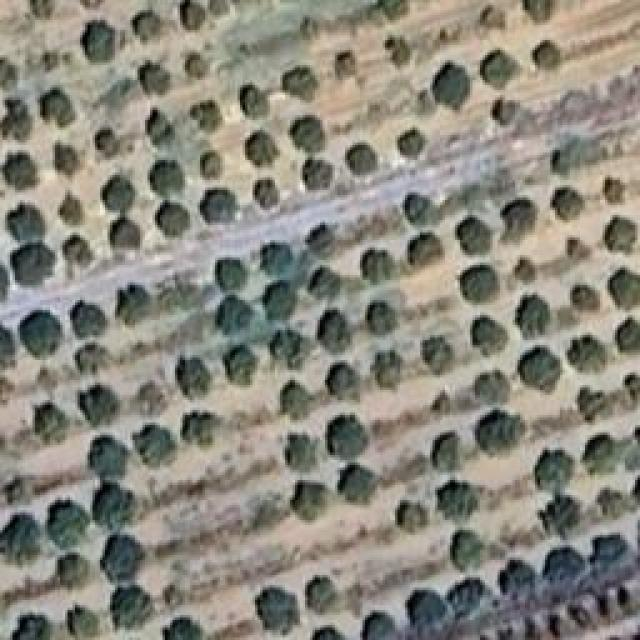Tree: (408, 590, 453, 640), (100, 535, 145, 583), (478, 410, 524, 456), (0, 513, 40, 565), (10, 242, 56, 287), (20, 310, 64, 357), (48, 500, 91, 548), (255, 588, 299, 634), (518, 348, 562, 394), (93, 482, 135, 530), (30, 398, 71, 447), (133, 425, 177, 468), (448, 578, 493, 620), (328, 415, 369, 461), (88, 435, 129, 481), (433, 63, 472, 110), (438, 480, 481, 521), (78, 385, 119, 428), (535, 450, 574, 495), (553, 137, 599, 175), (113, 585, 152, 628), (543, 547, 587, 585), (503, 197, 539, 242), (8, 202, 48, 242), (460, 265, 500, 305), (543, 495, 582, 536), (500, 560, 539, 601), (515, 295, 550, 340), (215, 295, 253, 335), (337, 465, 375, 505), (480, 50, 518, 90), (290, 480, 326, 521), (115, 285, 151, 326), (473, 315, 509, 356), (83, 20, 117, 63), (318, 310, 352, 353), (70, 300, 108, 338), (583, 435, 619, 475), (223, 345, 258, 386), (263, 280, 297, 321), (450, 530, 484, 571), (607, 267, 640, 309), (455, 218, 491, 256), (178, 358, 212, 398), (40, 88, 75, 126), (290, 115, 325, 153), (133, 377, 168, 415), (280, 380, 313, 420), (325, 363, 360, 400), (103, 175, 137, 213), (270, 330, 304, 368), (150, 160, 185, 196), (3, 100, 33, 142), (570, 335, 605, 371), (3, 153, 37, 190), (285, 432, 316, 472), (423, 335, 454, 375), (58, 553, 92, 589), (182, 415, 220, 447), (245, 132, 279, 167), (260, 242, 294, 277), (360, 250, 394, 285), (553, 187, 587, 222), (155, 204, 190, 238), (475, 370, 511, 403), (373, 353, 404, 391), (590, 535, 628, 566), (433, 432, 462, 472), (408, 233, 443, 266), (567, 280, 599, 316), (605, 218, 636, 255), (308, 268, 342, 301), (490, 95, 523, 129), (200, 190, 235, 222), (75, 343, 111, 374), (578, 388, 609, 424), (215, 258, 248, 291), (345, 143, 378, 176), (283, 70, 318, 101), (308, 578, 338, 614), (147, 108, 175, 146), (190, 100, 223, 132), (140, 63, 171, 96), (405, 193, 436, 226), (13, 615, 53, 640), (133, 10, 164, 42), (68, 605, 99, 637), (398, 500, 429, 532), (303, 158, 333, 191), (368, 303, 398, 336), (240, 85, 268, 120), (65, 235, 94, 267), (363, 612, 396, 640), (162, 617, 202, 640), (615, 317, 640, 352), (305, 222, 334, 252), (598, 487, 627, 517), (385, 38, 413, 69), (533, 40, 562, 68), (565, 238, 595, 265), (60, 193, 84, 226), (397, 128, 425, 156), (253, 180, 279, 210), (113, 218, 139, 248), (55, 143, 78, 176), (95, 130, 120, 158), (182, 0, 206, 29), (523, 0, 554, 22), (378, 0, 409, 21), (603, 178, 626, 205), (515, 255, 537, 282), (185, 54, 209, 78), (430, 390, 453, 415), (200, 153, 221, 180), (335, 53, 356, 80), (0, 58, 18, 88), (312, 627, 347, 640), (625, 373, 640, 403), (30, 0, 52, 18), (210, 0, 228, 16)
